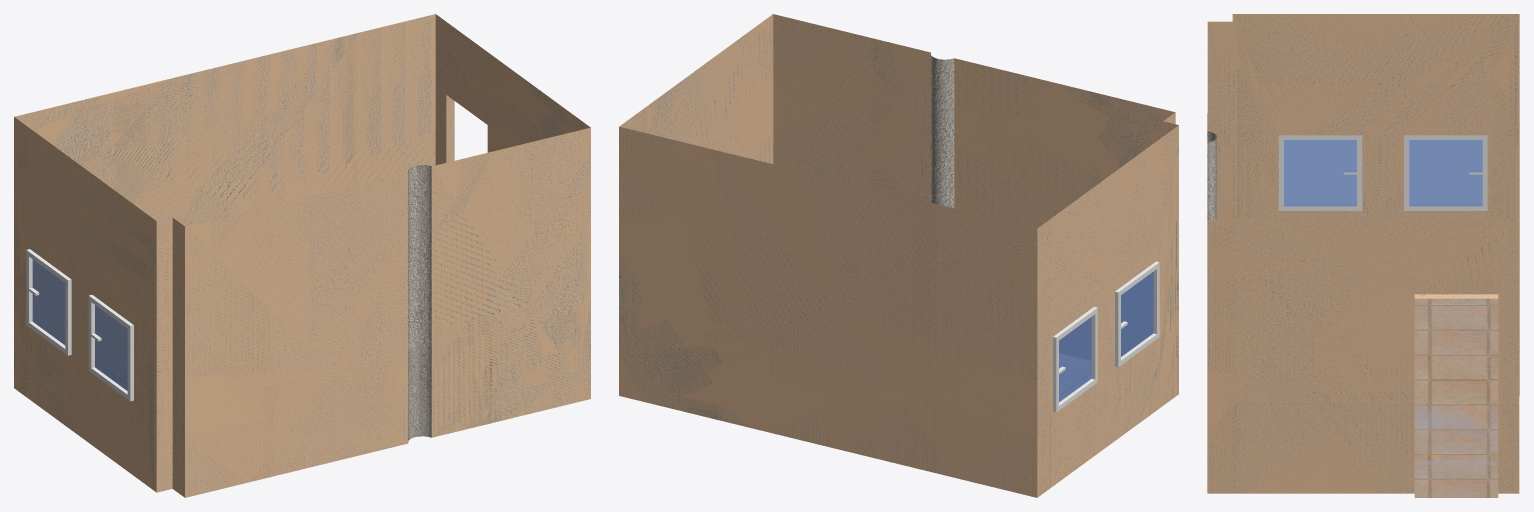
The model's file is COM010.obj.
3 renders of one model, left to right at view 1: azimuth 30°, elevation 25°; view 2: azimuth 150°, elevation 25°; view 3: azimuth 270°, elevation 25°, orthographic.
Visible parts, largest first — view 1: Mesh7 COM010 Model, Mesh1 ventana3_1_1 COM010 Model, Mesh4 ventana3_1_2 COM010 Model; view 2: Mesh7 COM010 Model, Mesh4 ventana3_1_2 COM010 Model, Mesh1 ventana3_1_1 COM010 Model; view 3: Mesh7 COM010 Model, Mesh4 ventana3_1_2 COM010 Model, Mesh1 ventana3_1_1 COM010 Model.
Boxes of the visible parts, box(x1,y1,x2,y2) form: Mesh7 COM010 Model: box(14, 14, 590, 497); Mesh1 ventana3_1_1 COM010 Model: box(26, 249, 71, 355); Mesh4 ventana3_1_2 COM010 Model: box(88, 295, 133, 401); Mesh7 COM010 Model: box(619, 14, 1178, 497); Mesh4 ventana3_1_2 COM010 Model: box(1115, 261, 1159, 367); Mesh1 ventana3_1_1 COM010 Model: box(1053, 306, 1097, 412); Mesh7 COM010 Model: box(1207, 14, 1519, 497); Mesh4 ventana3_1_2 COM010 Model: box(1278, 135, 1362, 210); Mesh1 ventana3_1_1 COM010 Model: box(1404, 135, 1487, 210).
Bounding box in the file's own units: 6.02 × 3.6 × 3.73.
Materials: 6 (2 with a texture image).
